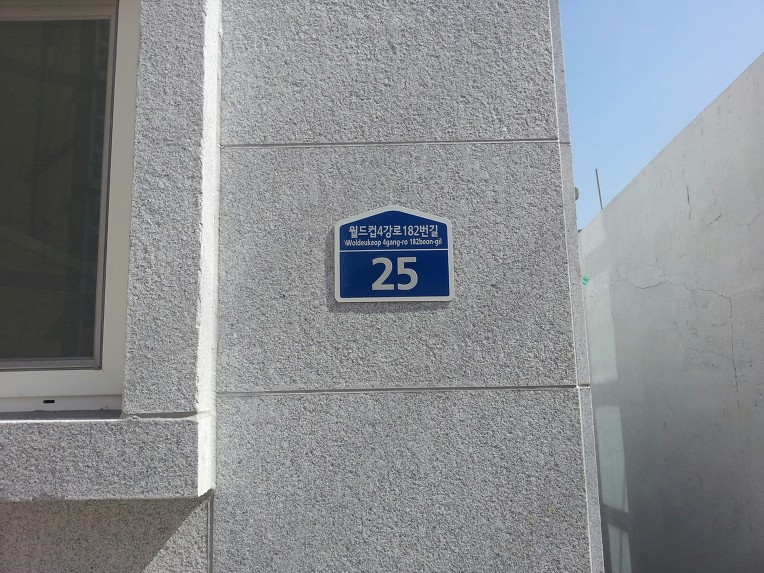building_license_plate1: (333, 206, 454, 303)
